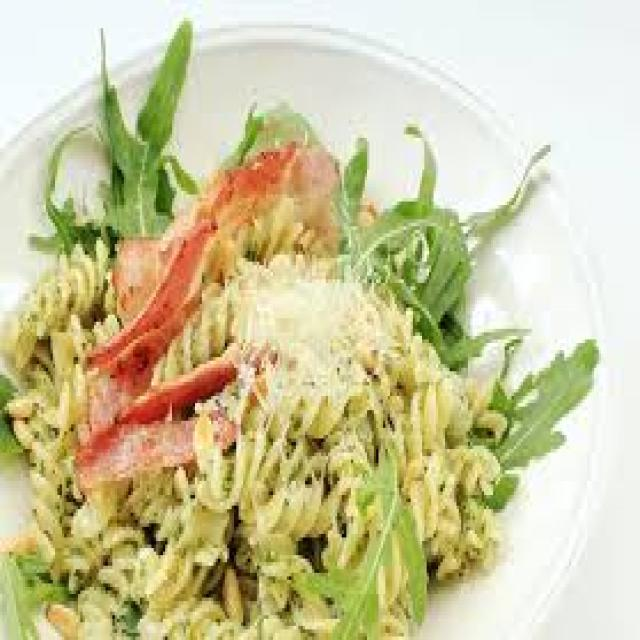pasta: (17, 199, 494, 636)
